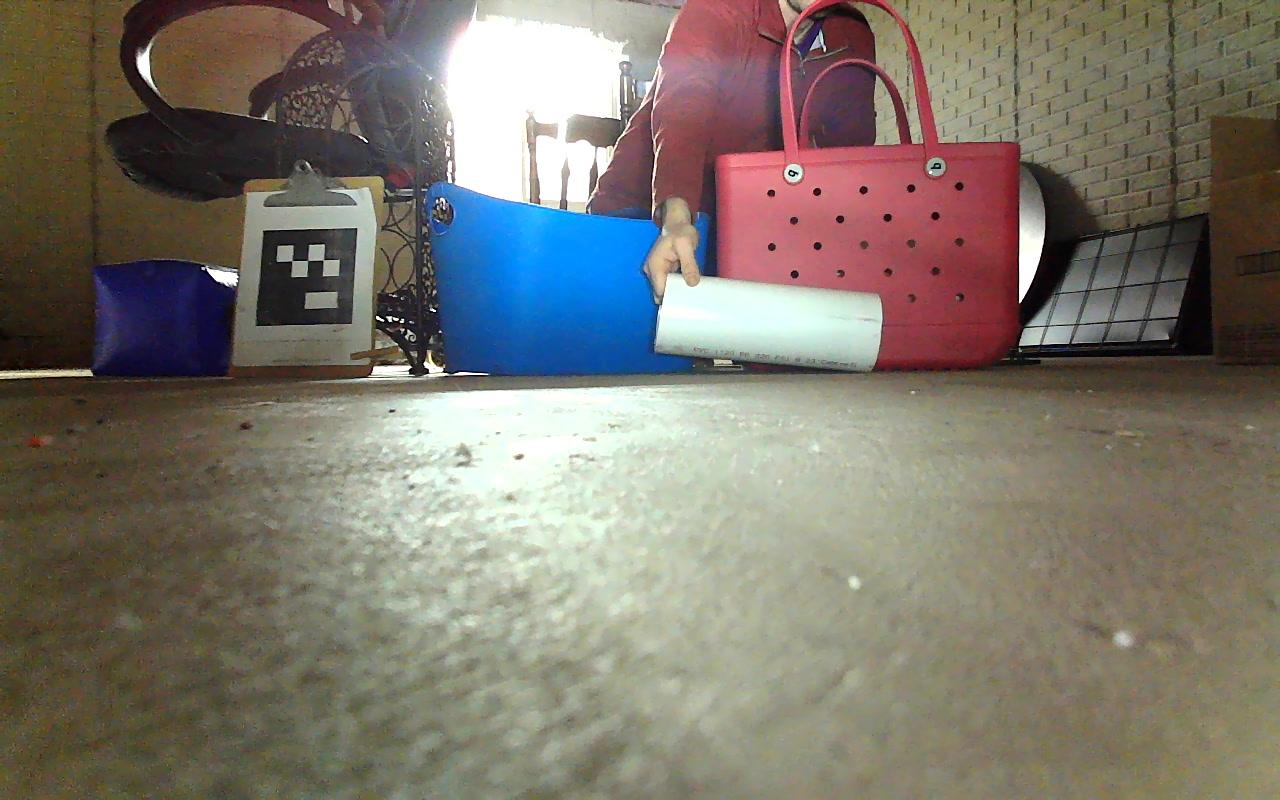coral: (648, 275, 886, 375)
